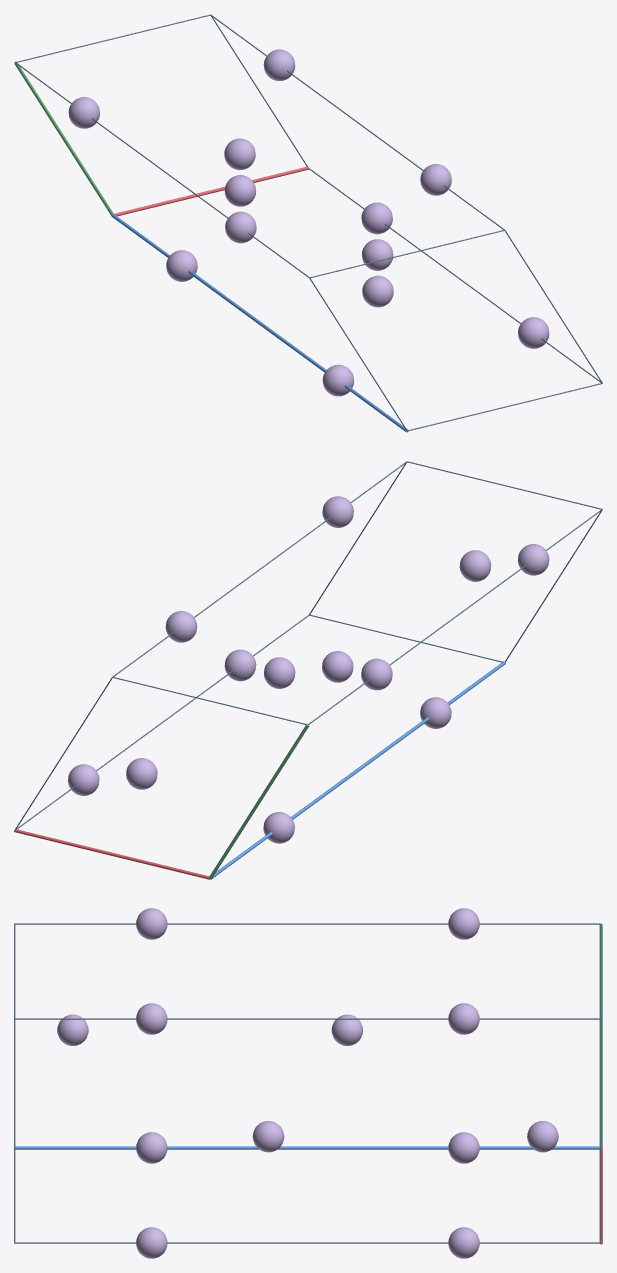
Rendered from nguyen-to-bi.glb.
The picture shows the model from 3 angles, top to bottom: view 1: azimuth 30°, elevation 25°; view 2: azimuth 150°, elevation 25°; view 3: azimuth 270°, elevation 25°; orthographic projection.
Parts seen in each view (by area): view 1: Bi · Bi · 1 (×12), Ô mạng và các trục a, b, c; view 2: Bi · Bi · 1 (×12), Ô mạng và các trục a, b, c; view 3: Bi · Bi · 1 (×12), Ô mạng và các trục a, b, c.
Boxes of the visible parts, bbox=[...] form: Bi · Bi · 1 (×12): bbox=[68, 49, 549, 396]; Ô mạng và các trục a, b, c: bbox=[14, 14, 602, 432]; Bi · Bi · 1 (×12): bbox=[68, 496, 549, 843]; Ô mạng và các trục a, b, c: bbox=[14, 461, 602, 879]; Bi · Bi · 1 (×12): bbox=[57, 908, 558, 1258]; Ô mạng và các trục a, b, c: bbox=[14, 923, 602, 1244].
Size of the model in its own units: 7.46 by 4.58 by 11.91.
